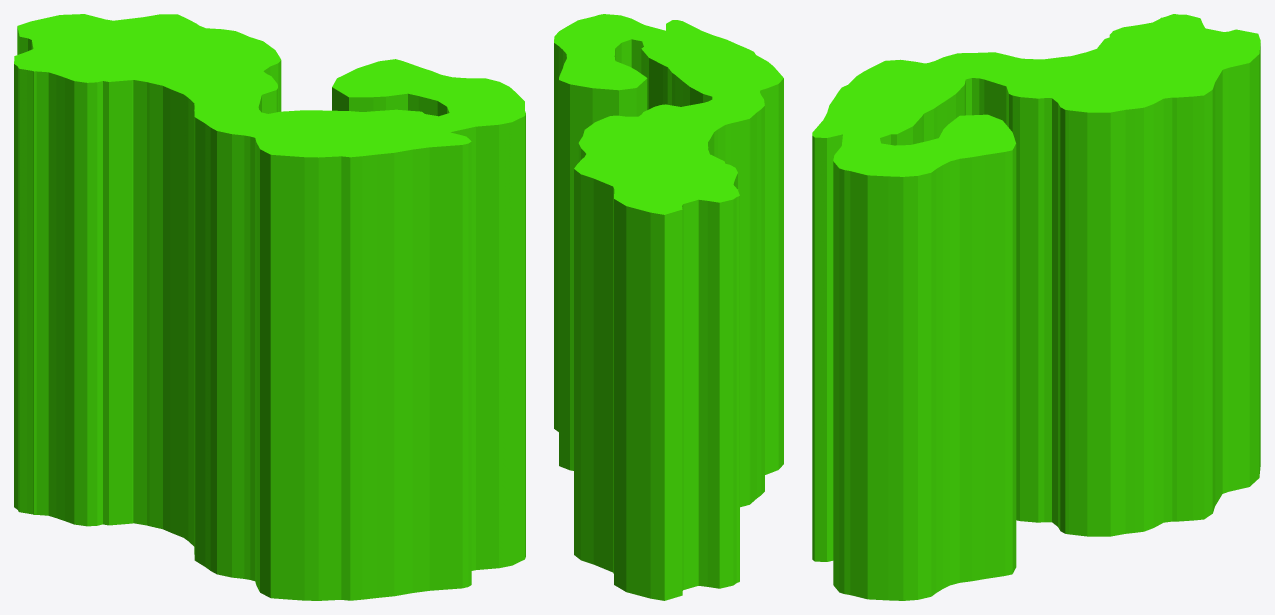
Rendered from forest02.dae.
The picture shows the model from 3 angles, left to right: view 1: azimuth 30°, elevation 25°; view 2: azimuth 150°, elevation 25°; view 3: azimuth 270°, elevation 25°; orthographic projection. The views are drawn at different scales.
Parts seen in each view (by area): view 1: Object_004; view 2: Object_004; view 3: Object_004.
Boxes of the visible parts, <box> form: Object_004: <box>14,14,525,600</box>; Object_004: <box>554,14,783,600</box>; Object_004: <box>812,14,1260,600</box>.
Size of the model in its own units: 3.35 by 3.89 by 4.06.
